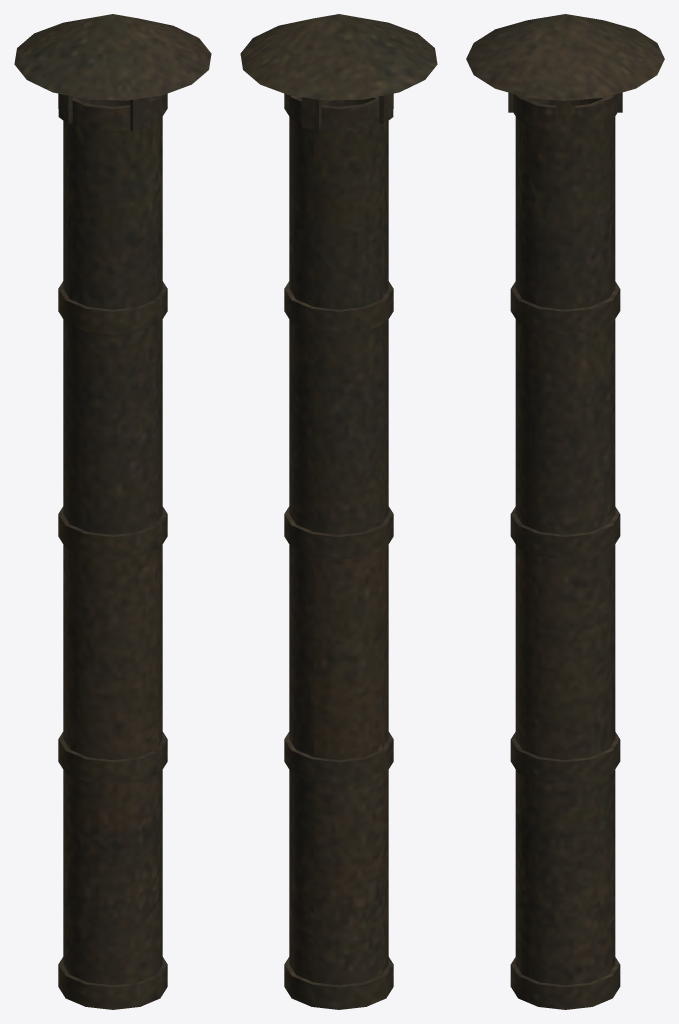
The model's file is chimney_a_4_1.obj.
The picture shows the model from 3 angles, left to right: view 1: azimuth 30°, elevation 25°; view 2: azimuth 150°, elevation 25°; view 3: azimuth 270°, elevation 25°; orthographic projection.
Visible parts, largest first — view 1: chimney_a_4_1; view 2: chimney_a_4_1; view 3: chimney_a_4_1.
Part boxes in pixels (x1,y1,x2,y2): chimney_a_4_1: [14, 14, 211, 1009]; chimney_a_4_1: [240, 14, 437, 1009]; chimney_a_4_1: [466, 14, 664, 1009].
Bounding box in the file's own units: 0.4 × 2.16 × 0.4.
